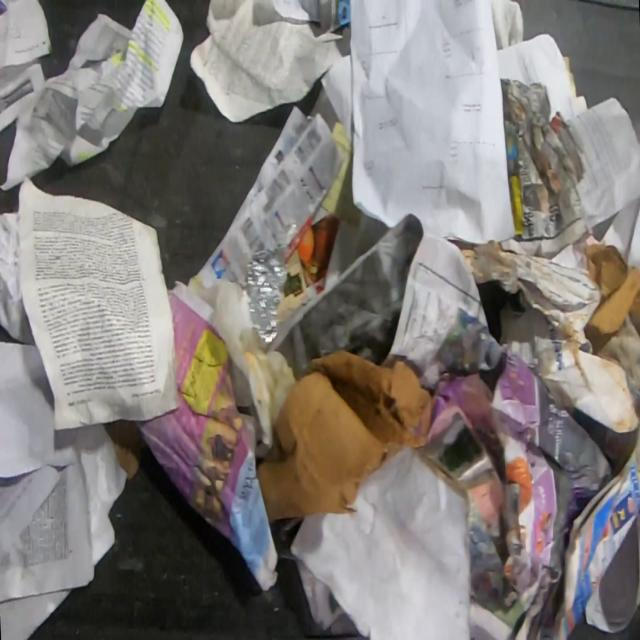cardboard: (288, 445, 472, 640), (255, 349, 434, 522), (583, 243, 640, 356)
soft_plastic: (238, 243, 293, 345)
